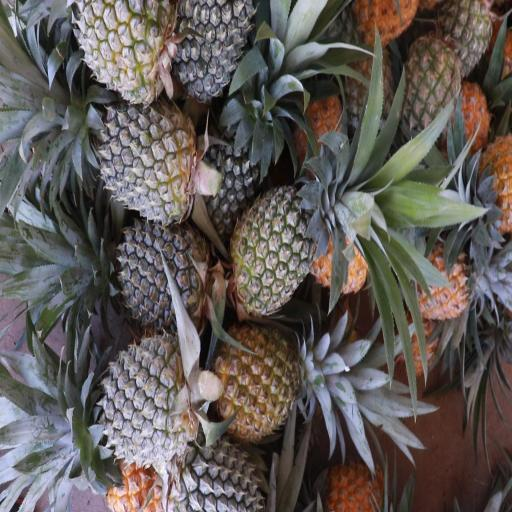------------------------------: (233, 188, 332, 312), (78, 0, 174, 110), (216, 321, 308, 434), (400, 36, 464, 140)
